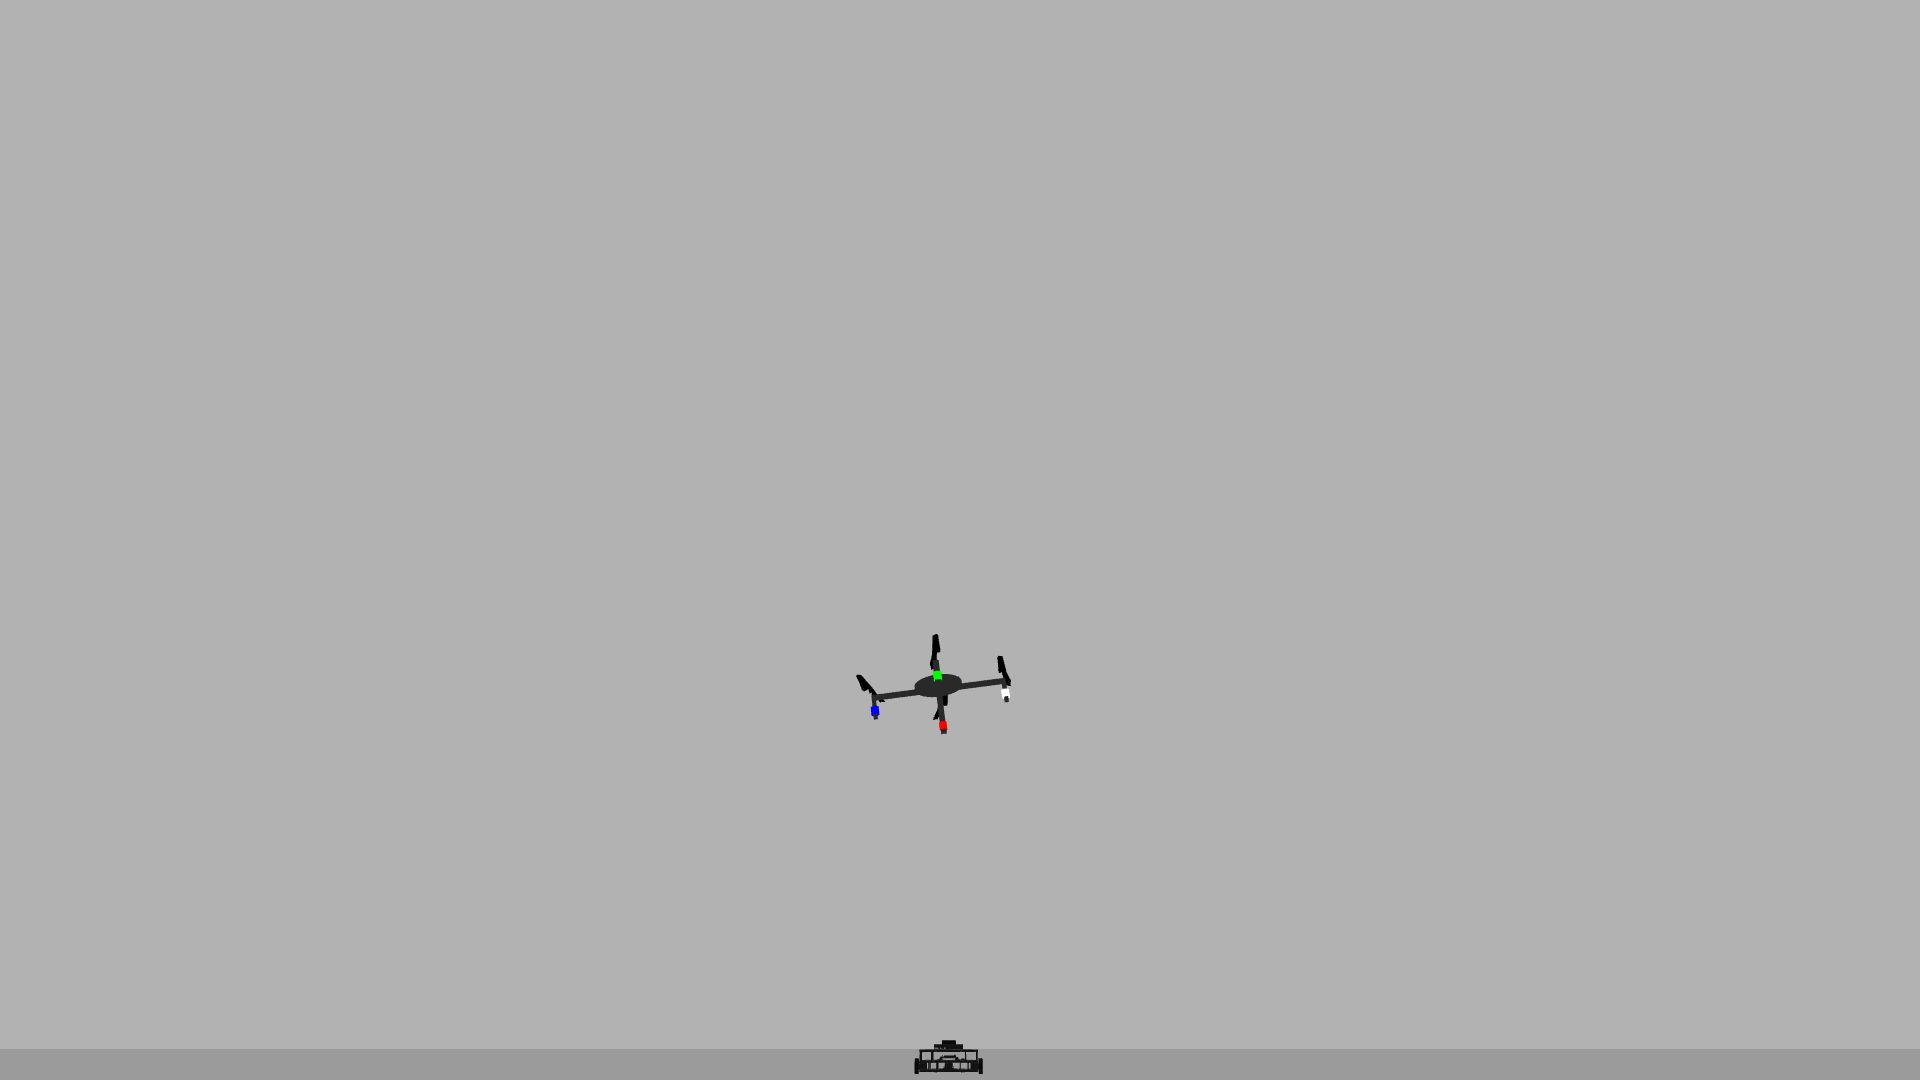drone: (840, 609, 1030, 753)
